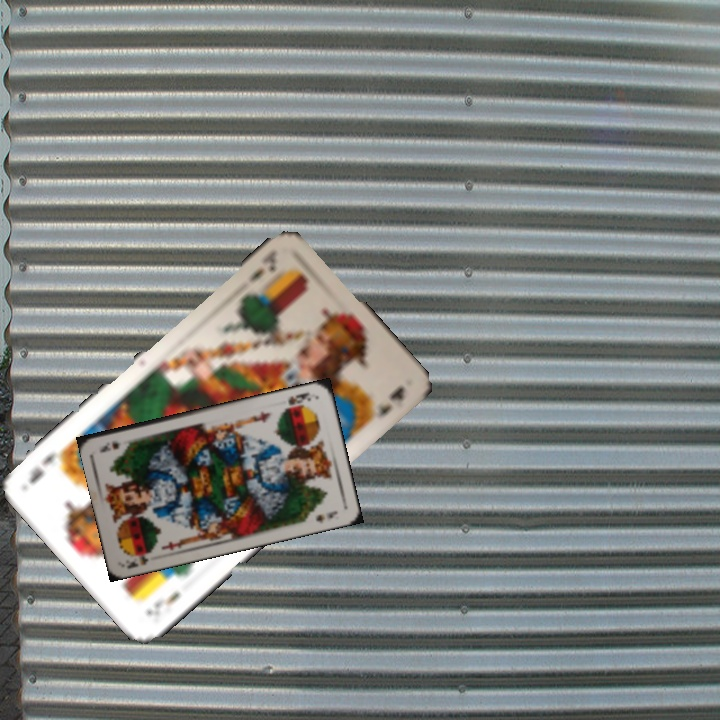EK: (244, 248, 280, 286), (141, 587, 182, 619)
SK: (123, 547, 154, 571), (284, 388, 313, 408)
